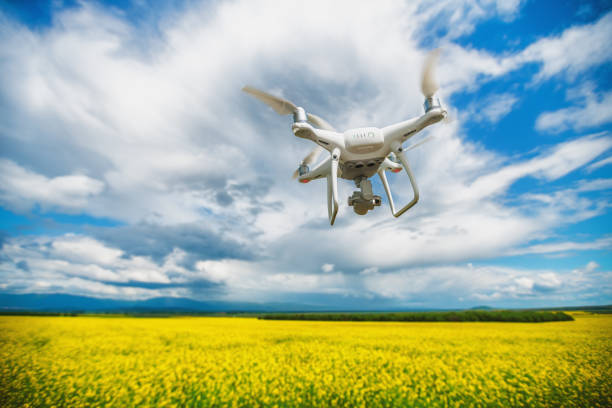Drone: (237, 55, 451, 227)
